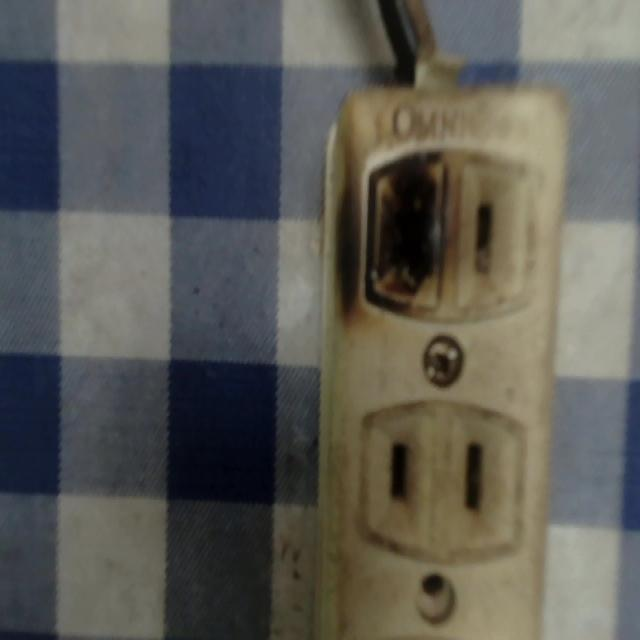-: (364, 149, 448, 311)
